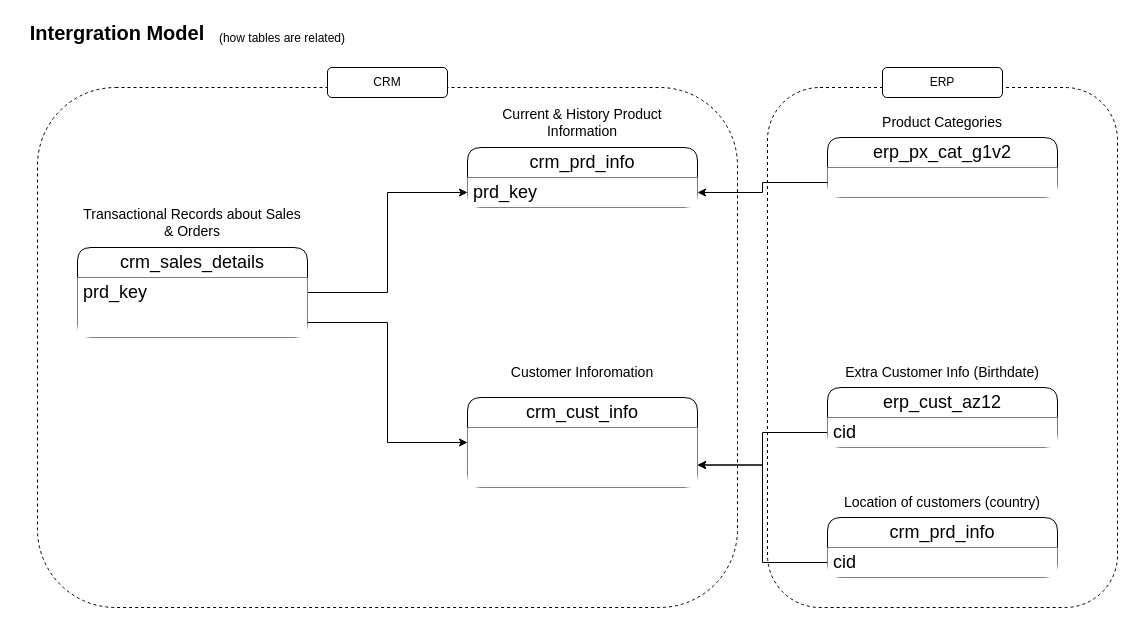
This 1135x625 diagram has some shape labels left out. The shapes that lost their labels are listed below. From the top down, each one's centre as x and y in pixels, then its label:
[942,182]: id
[192,322]: cst_id
[582,442]: cust_id
[582,472]: cst_key
